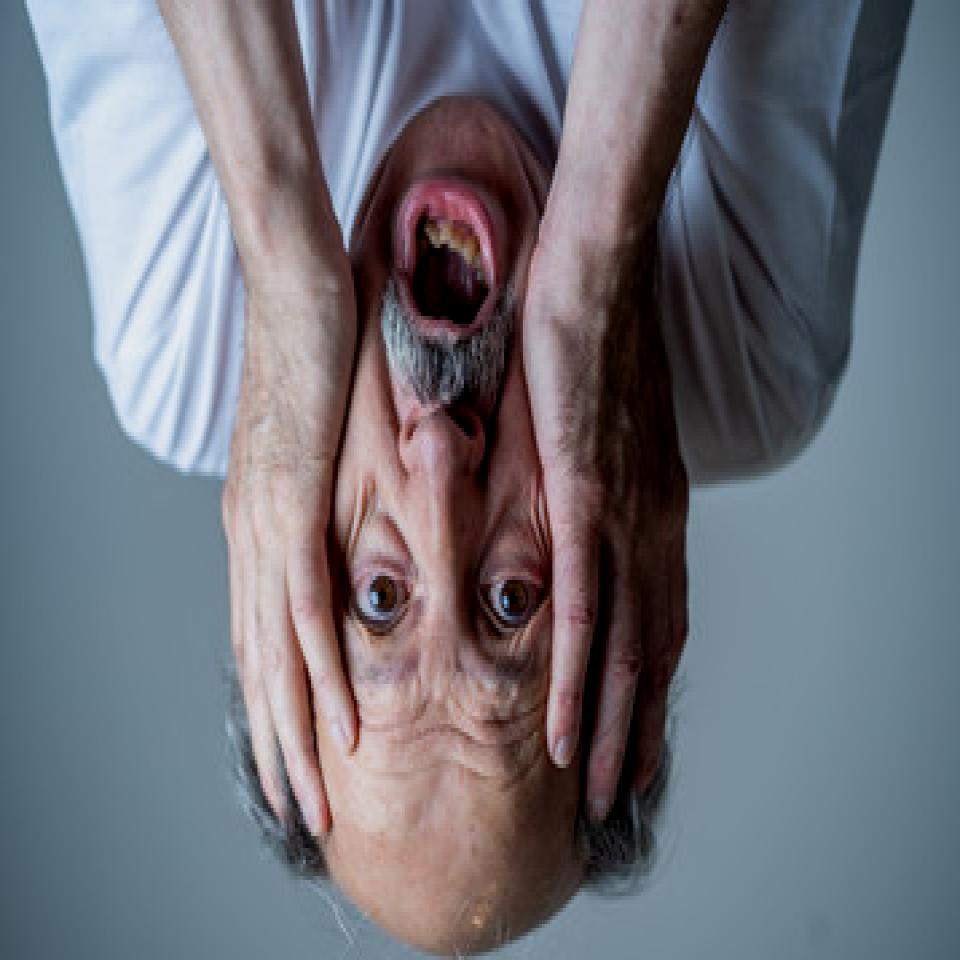Scared: (228, 98, 690, 816)
